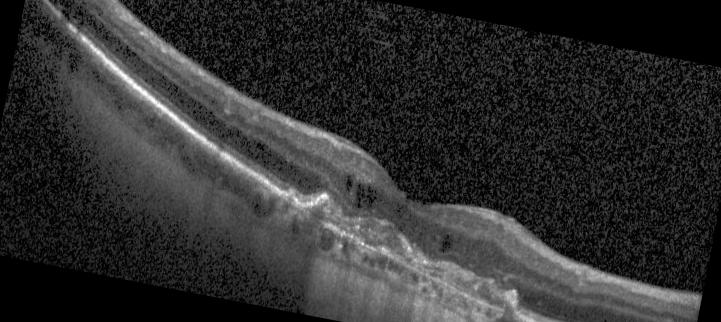intraretinal_cyst: (356, 183, 377, 207), (441, 235, 451, 252), (345, 175, 352, 190)
subretinal_fluid: (310, 202, 325, 220)
subretinal_hyperreflective_material: (282, 192, 520, 311)
